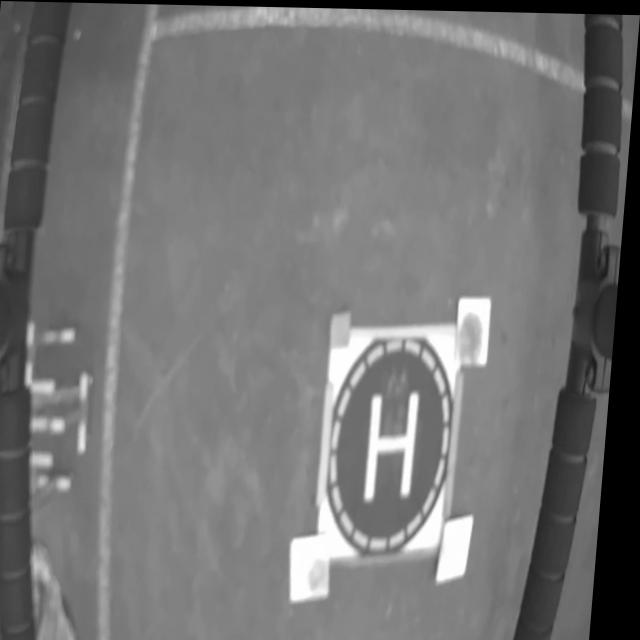Helipad: (371, 389, 425, 498)
